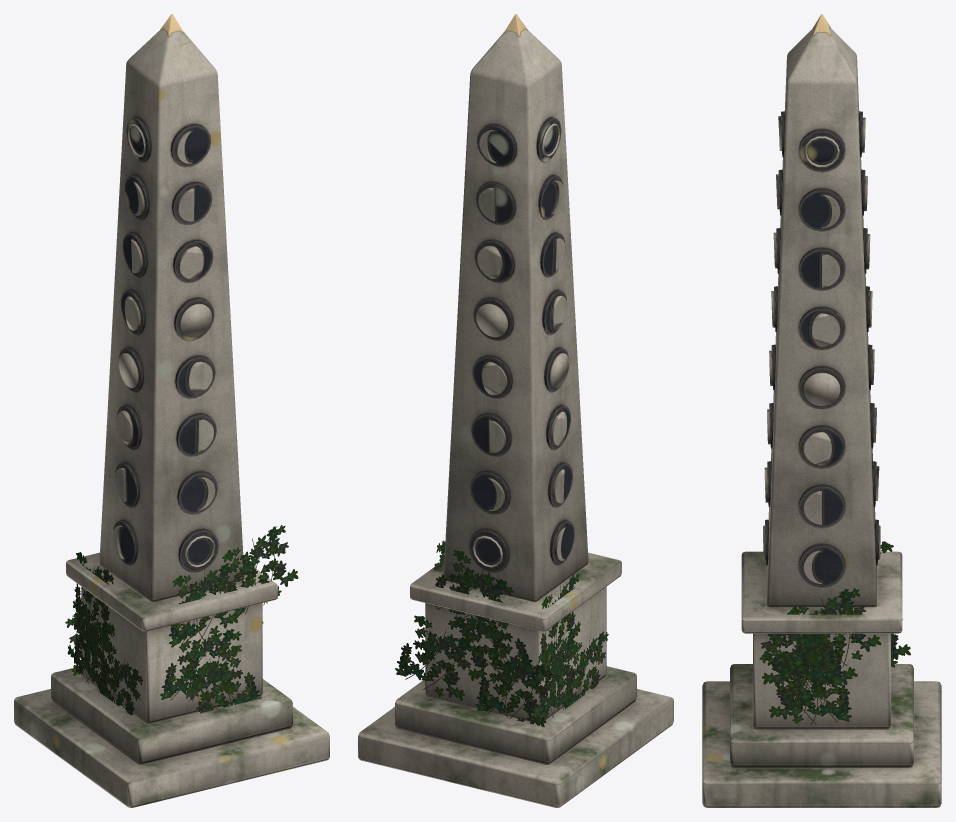
File: GardenObelisk.fbx
3 renders of one model, left to right at view 1: azimuth 30°, elevation 25°; view 2: azimuth 150°, elevation 25°; view 3: azimuth 270°, elevation 25°, orthographic. The views are drawn at different scales.
Visible parts, largest first — view 1: GardenObelisk_Main, GardenObelisk_Leaves; view 2: GardenObelisk_Main, GardenObelisk_Leaves; view 3: GardenObelisk_Main, GardenObelisk_Leaves.
Boxes of the visible parts, left/top/right/bottom form: GardenObelisk_Main: left=14, top=14, right=329, bottom=807; GardenObelisk_Leaves: left=65, top=525, right=298, bottom=714; GardenObelisk_Main: left=358, top=14, right=673, bottom=807; GardenObelisk_Leaves: left=395, top=540, right=608, bottom=726; GardenObelisk_Main: left=702, top=14, right=941, bottom=807; GardenObelisk_Leaves: left=759, top=541, right=910, bottom=724.
Size of the model in its own units: 260 by 894 by 260.
